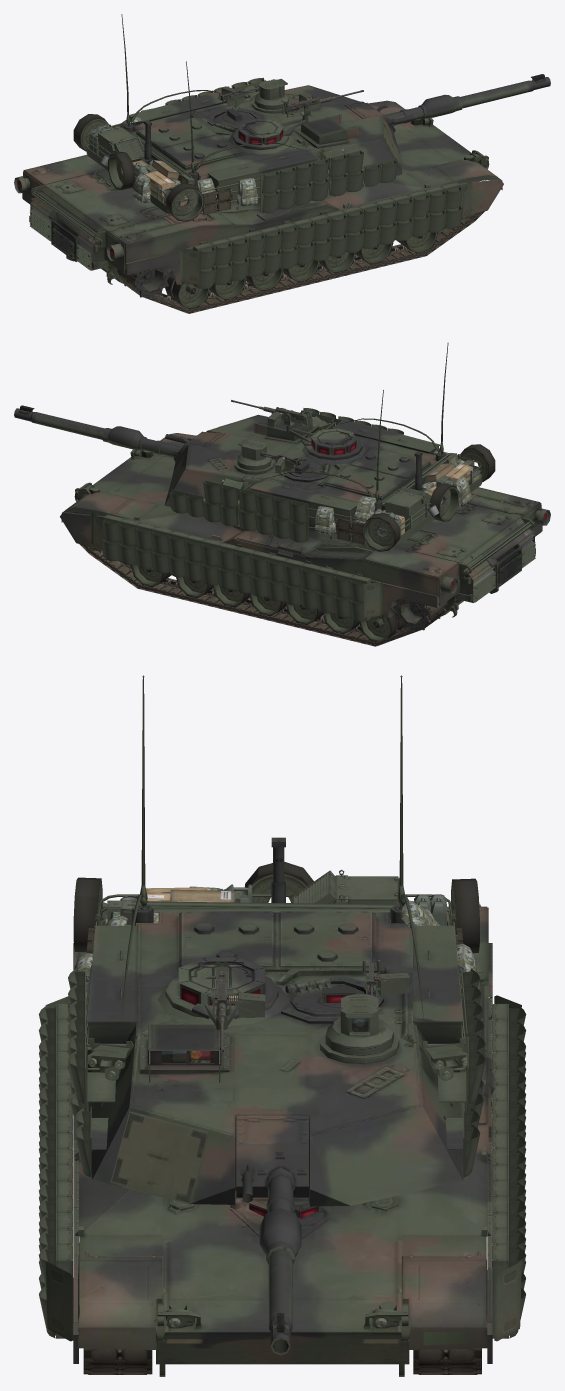
Rendered from m1a2_sep_v2.glb.
3 views of the same model, one above another, from view 1: azimuth 30°, elevation 25°; view 2: azimuth 150°, elevation 25°; view 3: azimuth 270°, elevation 25° (orthographic). The views are drawn at different scales.
Parts seen in each view (by area): view 1: turret.001, hull.001, hullb, enginecover, weapon.001, track1, track1b, ammohatch02, ammohatch, enginegrill, base_shingles, m1a2sep (+29 smaller); view 2: turret.001, hull.001, hullb, enginecover, weapon.001, track2, track2b, ammohatch, ammohatch02, enginegrill, m1a2sep, base_shingles2 (+28 smaller); view 3: turret.001, hull.001, fromtlowerhull, gear23, ammohatch, mount.001, weapon.001, ammohatch02, m1a2, m1a2sep, mount4, gear66 (+22 smaller).
Boxes of the visible parts, left/top/right/bottom form: turret.001: left=86, top=85, right=402, bottom=214; hull.001: left=23, top=100, right=502, bottom=283; hullb: left=14, top=154, right=235, bottom=279; enginecover: left=44, top=174, right=156, bottom=232; weapon.001: left=383, top=74, right=550, bottom=124; track1: left=117, top=211, right=484, bottom=313; track1b: left=118, top=181, right=478, bottom=310; ammohatch02: left=163, top=135, right=241, bottom=166; ammohatch: left=138, top=117, right=216, bottom=148; enginegrill: left=30, top=210, right=91, bottom=270; base_shingles: left=260, top=150, right=395, bottom=211; m1a2sep: left=98, top=127, right=144, bottom=162; turret.001: left=164, top=413, right=482, bottom=544; hull.001: left=61, top=433, right=541, bottom=616; hullb: left=293, top=487, right=550, bottom=611; enginecover: left=415, top=505, right=523, bottom=562; weapon.001: left=14, top=405, right=182, bottom=457; track2: left=79, top=544, right=447, bottom=646; track2b: left=87, top=546, right=446, bottom=642; ammohatch: left=325, top=465, right=404, bottom=496; ammohatch02: left=350, top=447, right=429, bottom=478; enginegrill: left=474, top=542, right=535, bottom=602; m1a2sep: left=385, top=486, right=431, bottom=532; base_shingles2: left=171, top=480, right=308, bottom=540; turret.001: left=86, top=837, right=466, bottom=1206; hull.001: left=78, top=907, right=494, bottom=1376; fromtlowerhull: left=156, top=1332, right=409, bottom=1364; gear23: left=110, top=1111, right=208, bottom=1203; ammohatch: left=280, top=911, right=372, bottom=967; mount.001: left=236, top=1115, right=308, bottom=1197; weapon.001: left=259, top=1167, right=301, bottom=1355; ammohatch02: left=181, top=911, right=272, bottom=967; m1a2: left=320, top=994, right=399, bottom=1064; m1a2sep: left=293, top=869, right=399, bottom=919; mount4: left=165, top=957, right=278, bottom=1029; gear66: left=124, top=901, right=398, bottom=912.
Bounding box in the file's own units: 9.82 × 4.58 × 4.23.
Materials: 17 (17 with a texture image).
